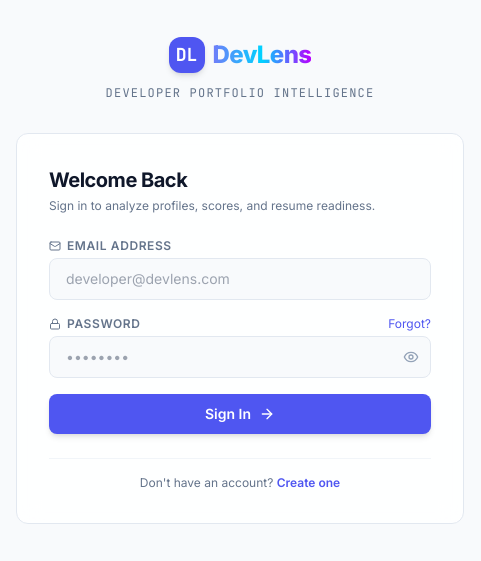
Scenario: Frontend Authentication Integration (Module 2.2) › displays client-side validation errors on empty fields
Check: the heading "Welcome Back" is shown, box [49, 168, 187, 192]
Click the button "Sign In". click: {"x": 240, "y": 414}
box: [49, 394, 431, 434]
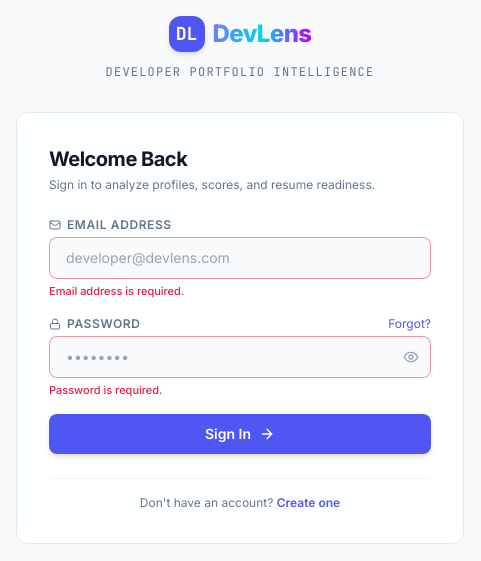
Check: the text "Email address is required." is shown, box [49, 284, 184, 298]
Check: the text "Password is required." is shown, box [49, 382, 162, 396]
